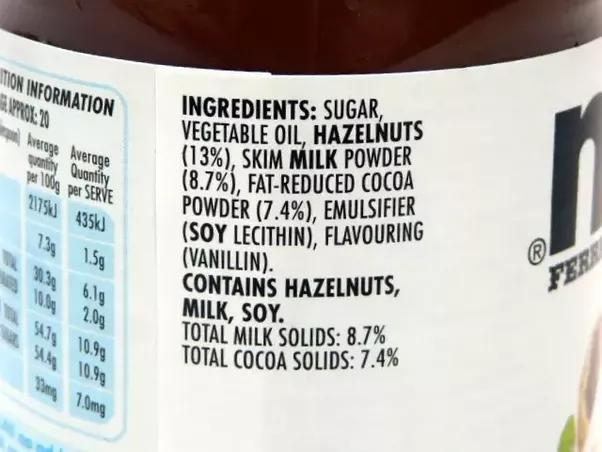ingredients: (171, 87, 454, 273)
